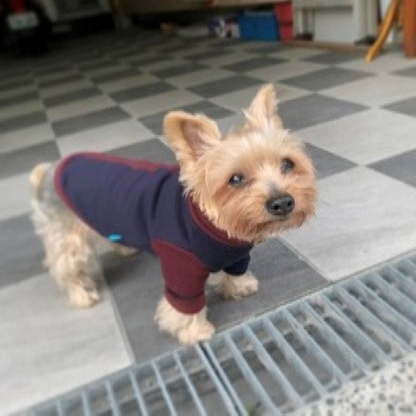yorkshire: (23, 81, 325, 346)
